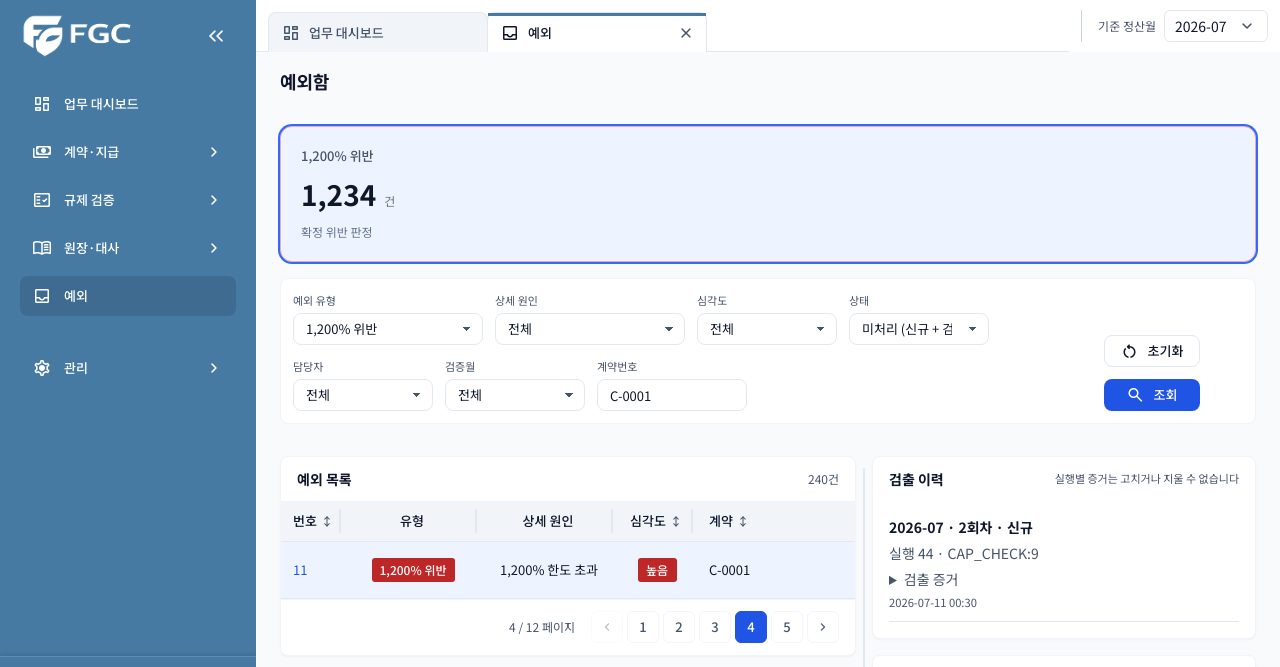
Test: EXCP-W01 예외함 › 페이지네이션은 간결한 화살표와 5페이지 묶음으로 이동하며 검색조건을 유지한다
Expected: the text "4 / 12 페이지" is shown, [509,618,575,636]
Expected: the button "4" is shown, [735,611,767,643]
Click the button named "다음 5페이지". click: click(823, 627)
box: [807,611,839,643]
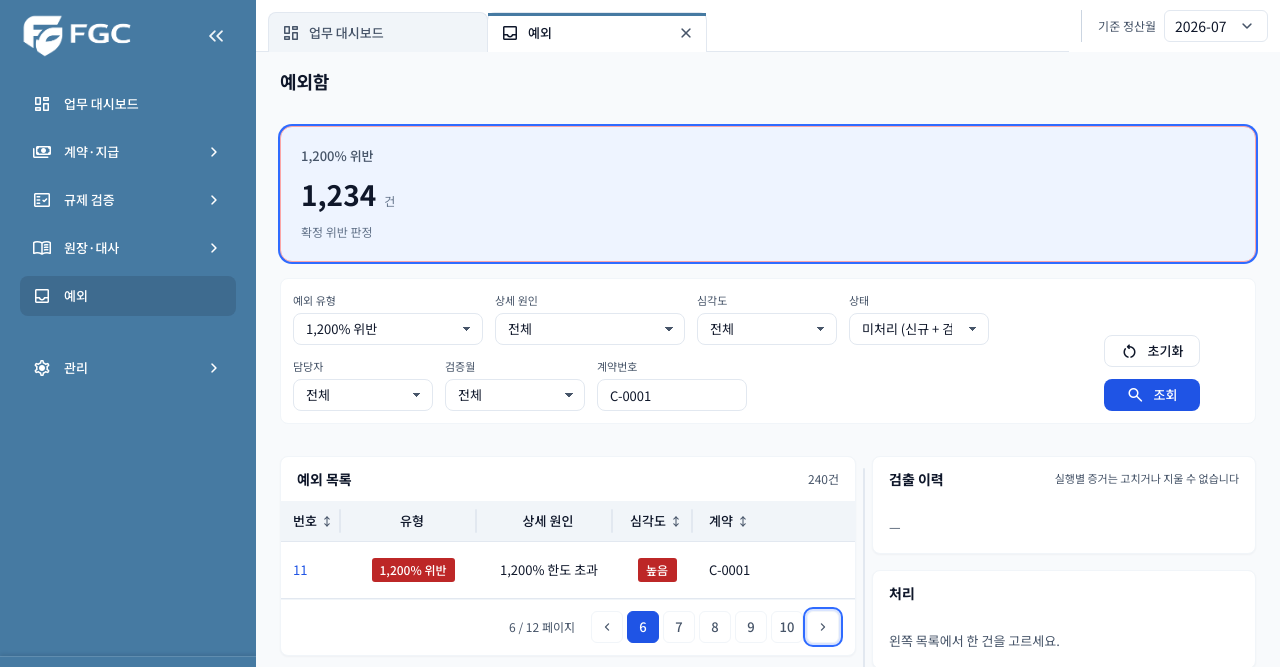
Expected: the cell "C-0001" is shown, [697,542,855,598]
Expected: the text "6 / 12 페이지" is shown, [509,618,575,636]
Click the button named "이전 5페이지". click: click(607, 627)
box: [591,611,623,643]
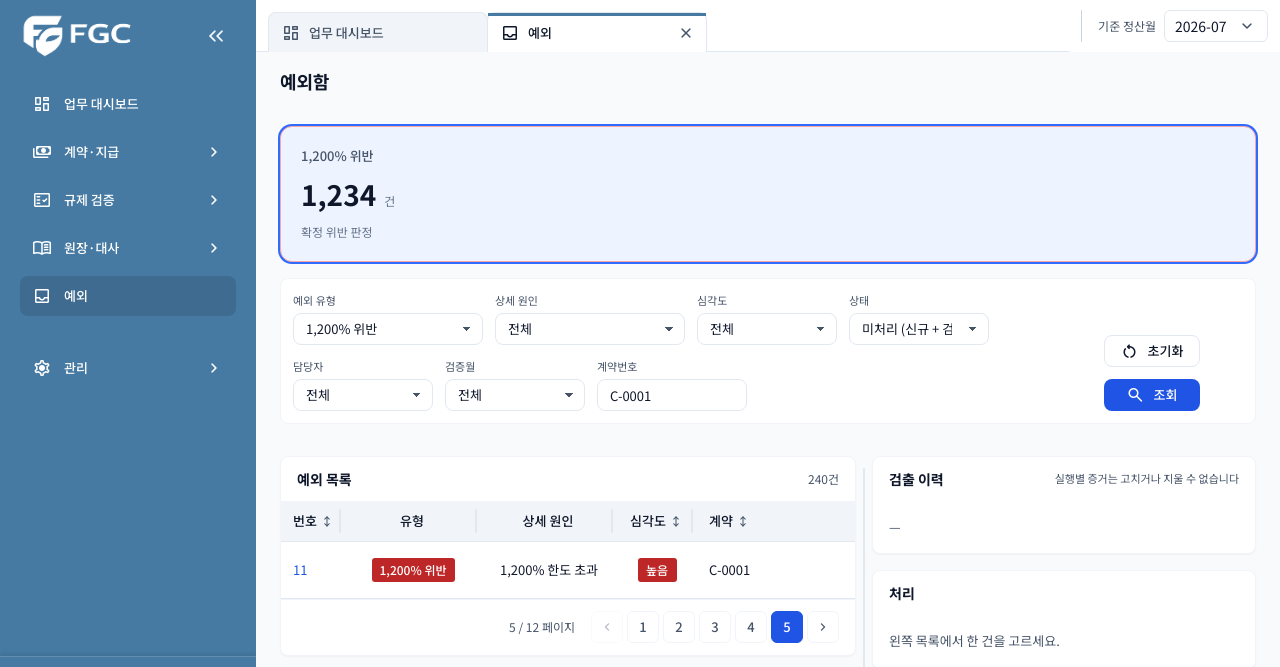
Expected: the text "5 / 12 페이지" is shown, [509,618,575,636]
Click the button "3". click: click(715, 627)
box: [699,611,731,643]
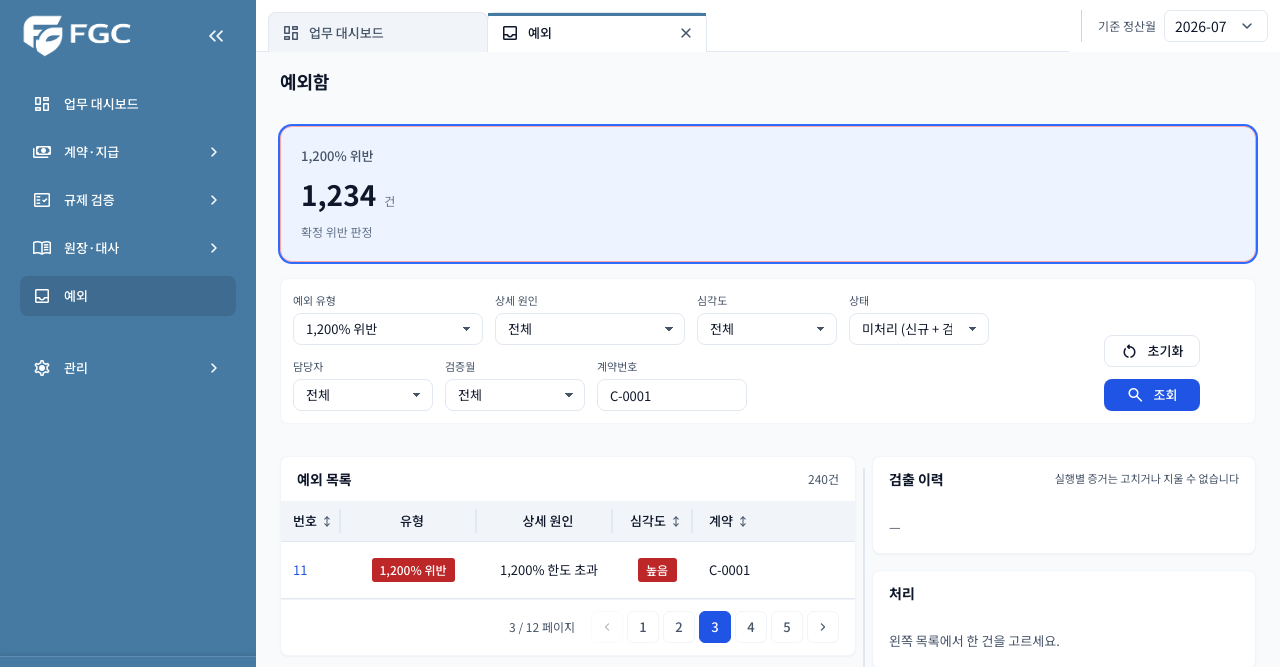
Expected: the text "3 / 12 페이지" is shown, [509,618,575,636]
Click the button named "다음 5페이지". click: click(823, 627)
box: [807,611,839,643]
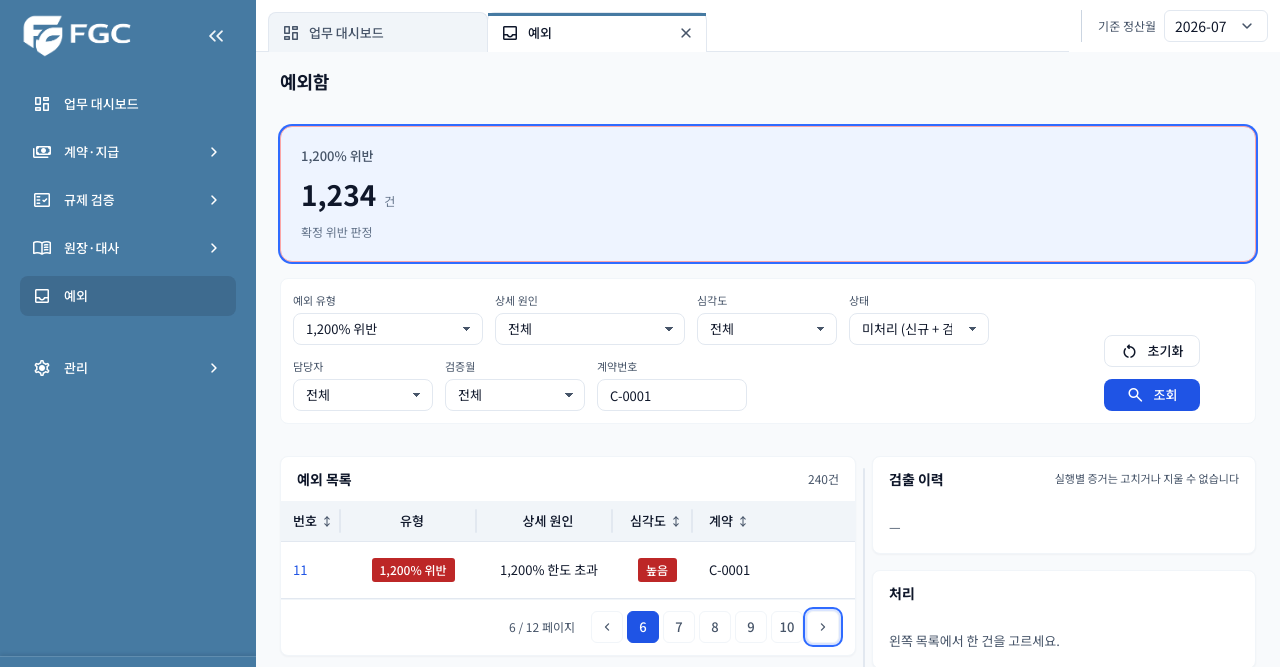
Expected: the text "6 / 12 페이지" is shown, [509,618,575,636]
Click the button named "다음 5페이지". click: click(823, 627)
box: [807,611,839,643]
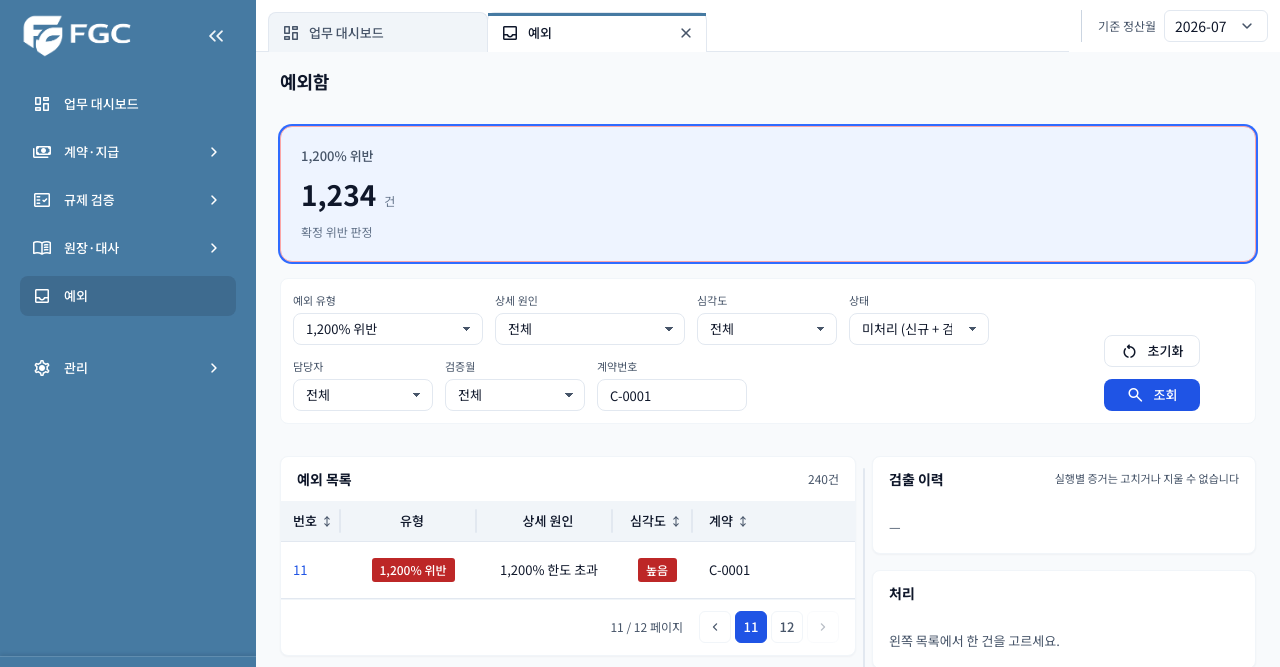
Expected: the text "11 / 12 페이지" is shown, [610,618,683,636]
